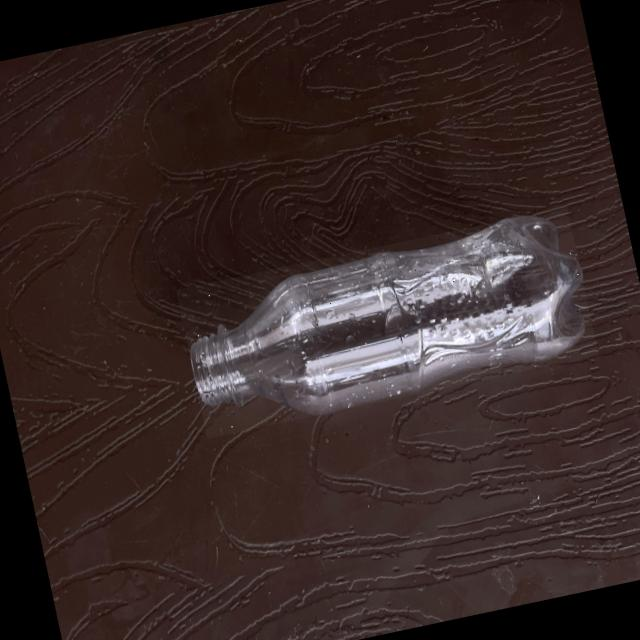PET_With_Liquid: (192, 217, 583, 413)
